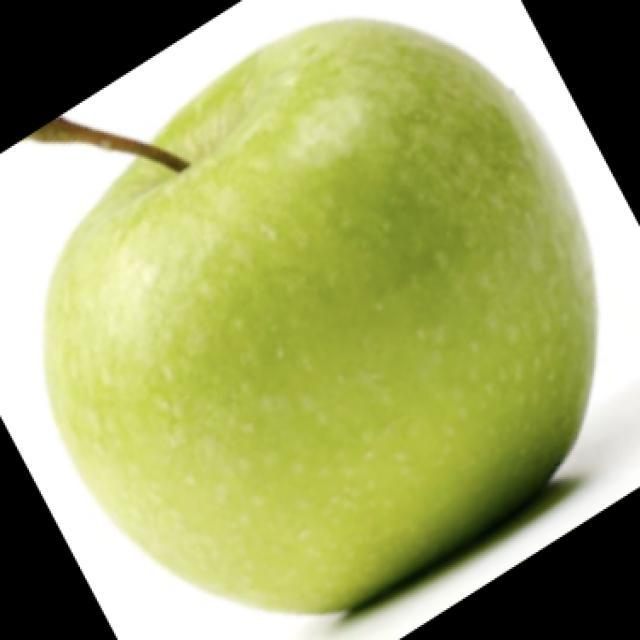Fresh Apple: (40, 33, 607, 612)
